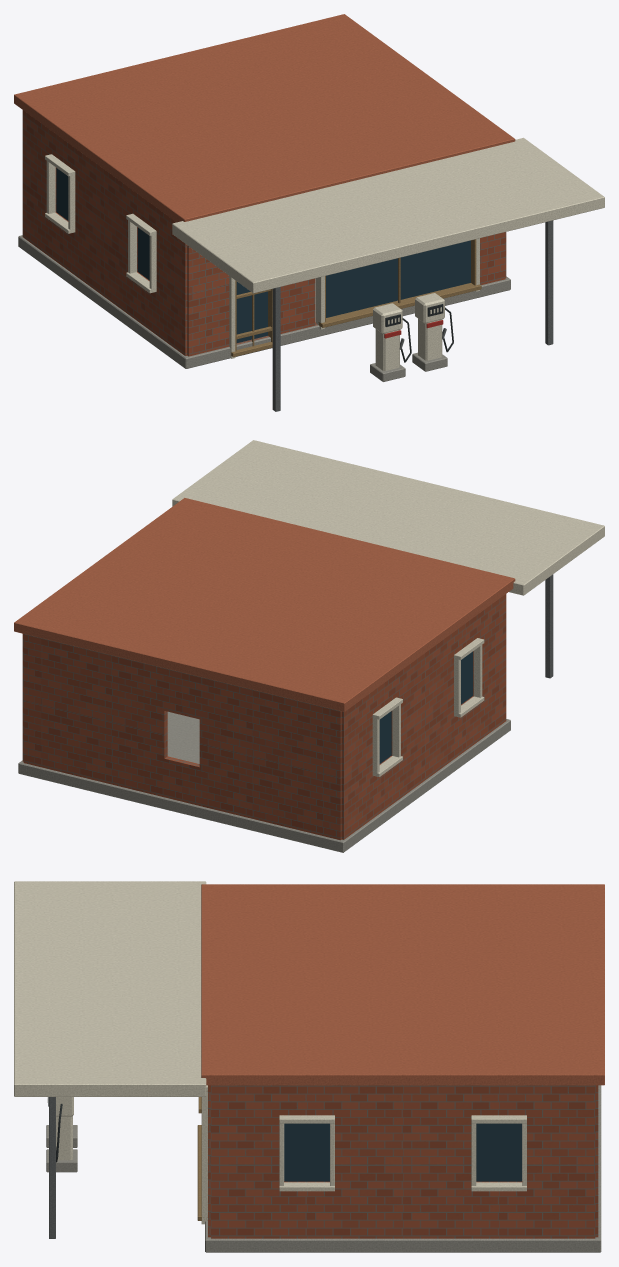
Rendered from GASA2_lod1.glb.
The picture shows the model from 3 angles, top to bottom: view 1: azimuth 30°, elevation 25°; view 2: azimuth 150°, elevation 25°; view 3: azimuth 270°, elevation 25°; orthographic projection. The views are drawn at different scales.
Visible parts, largest first — view 1: GASA2_LOD1; view 2: GASA2_LOD1; view 3: GASA2_LOD1.
Part boxes in pixels (x1,y1,x2,y2): GASA2_LOD1: (14, 14, 604, 411); GASA2_LOD1: (14, 440, 604, 852); GASA2_LOD1: (14, 881, 604, 1252).
Bounding box in the file's own units: 10 × 4.12 × 12.3.
Materials: 10 (8 with a texture image).
